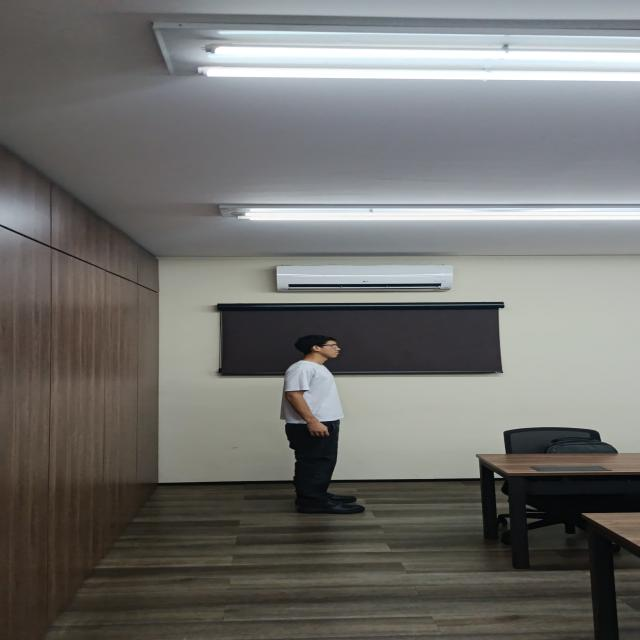sem_oculos: (323, 345, 332, 347), (329, 346, 336, 348)
